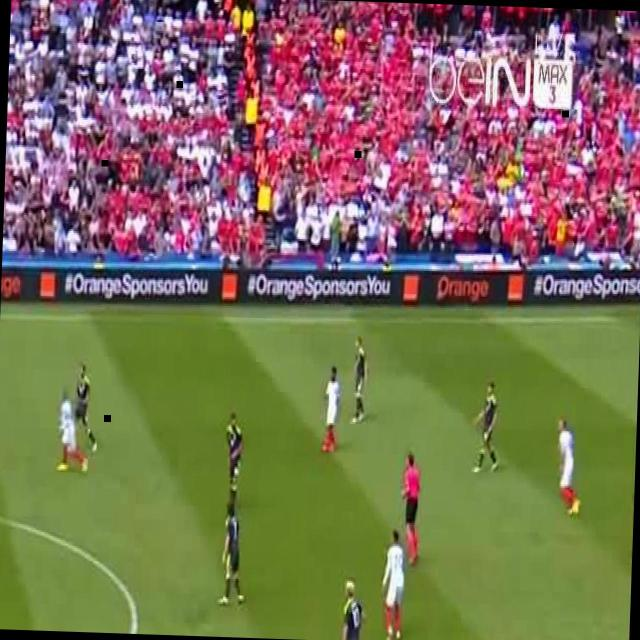player-white: (217, 503, 247, 607), (56, 389, 90, 477), (472, 381, 502, 475), (381, 529, 406, 640), (70, 364, 100, 454), (555, 417, 582, 515), (399, 452, 421, 566), (223, 413, 243, 528), (320, 363, 342, 455), (349, 336, 368, 428), (342, 577, 366, 640)
